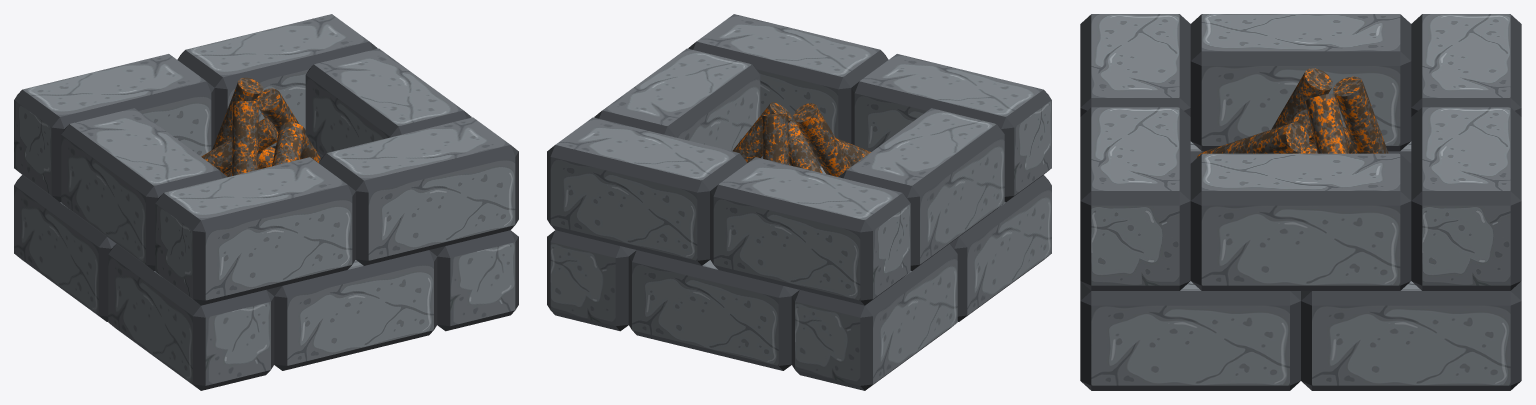
The model's file is M_Ricettacolo.fbx.
The picture shows the model from 3 angles, left to right: view 1: azimuth 30°, elevation 25°; view 2: azimuth 150°, elevation 25°; view 3: azimuth 270°, elevation 25°; orthographic projection. The views are drawn at different scales.
Parts seen in each view (by area): view 1: Ricettacolo; view 2: Ricettacolo; view 3: Ricettacolo.
Boxes of the visible parts, x1,y1,x2,y2 form: Ricettacolo: (14,14,518,390); Ricettacolo: (547,14,1051,390); Ricettacolo: (1080,14,1521,390).
Size of the model in its own units: 4 by 2.23 by 4.
